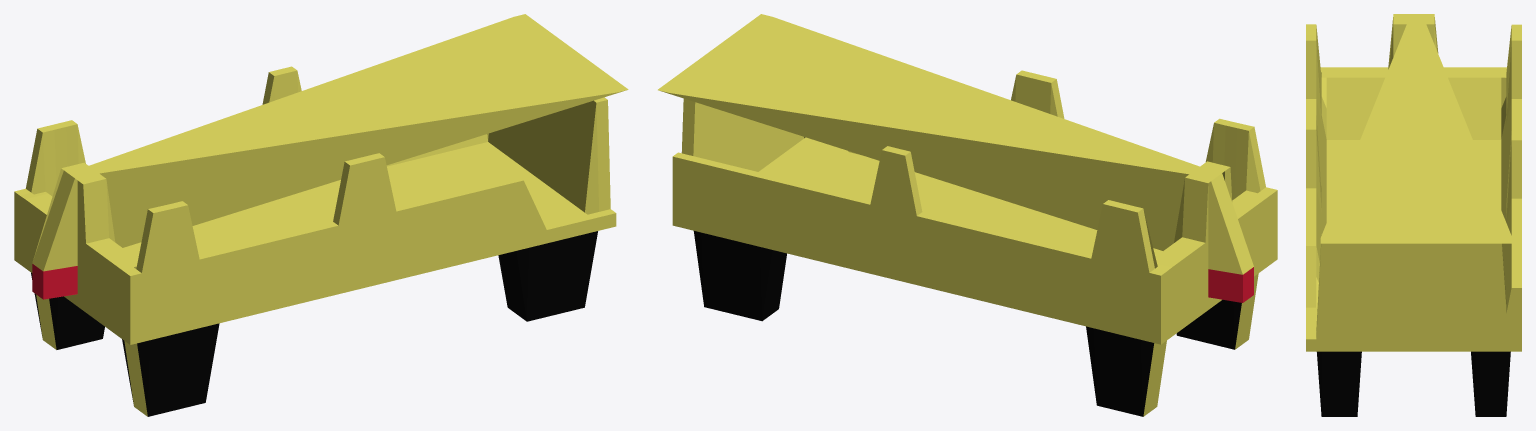
Rendered from shkoda.fbx.
The picture shows the model from 3 angles, left to right: view 1: azimuth 30°, elevation 25°; view 2: azimuth 150°, elevation 25°; view 3: azimuth 270°, elevation 25°; orthographic projection. The views are drawn at different scales.
Visible parts, largest first — view 1: Cube; view 2: Cube; view 3: Cube.
Part boxes in pixels (x1,y1,x2,y2): Cube: (14,14,628,416); Cube: (658,14,1277,416); Cube: (1306,14,1521,416).
Bounding box in the file's own units: 804 × 297 × 301.
